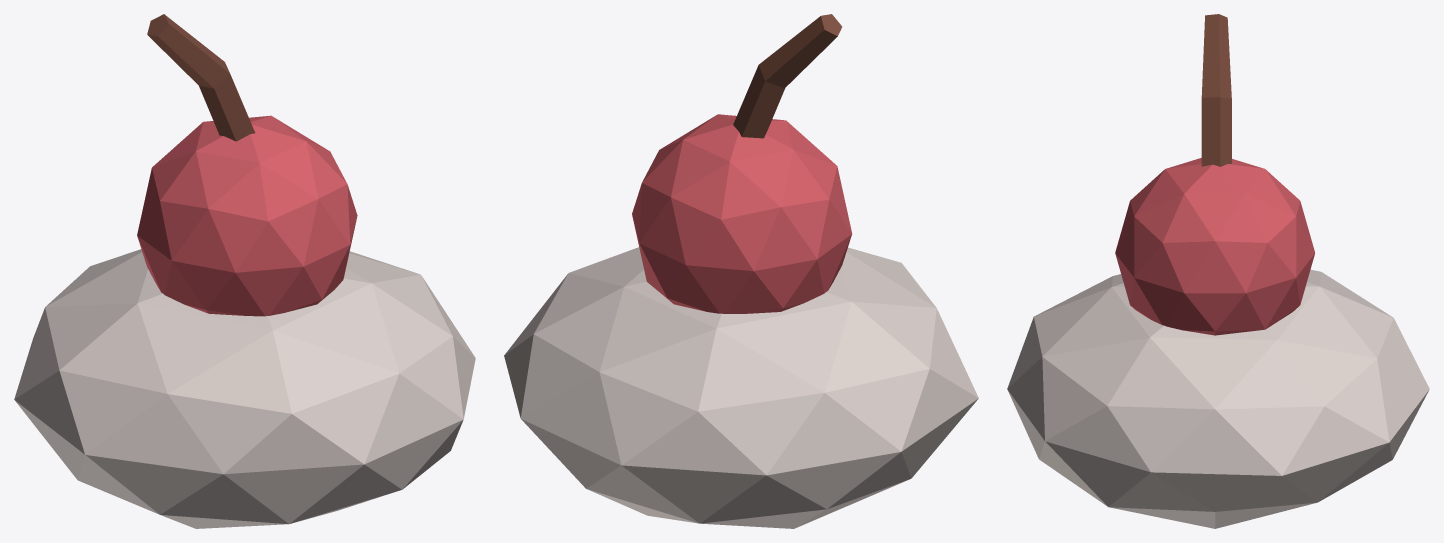
The model's file is goo_jar_hat@candy.fbx.
3 views of the same model, side by side, from view 1: azimuth 30°, elevation 25°; view 2: azimuth 150°, elevation 25°; view 3: azimuth 270°, elevation 25° (orthographic). The views are drawn at different scales.
Parts seen in each view (by area): view 1: goo_jar_hat; view 2: goo_jar_hat; view 3: goo_jar_hat.
Part boxes in pixels (x1=…): goo_jar_hat: x1=14, y1=14, x2=475, y2=528; goo_jar_hat: x1=504, y1=14, x2=978, y2=528; goo_jar_hat: x1=1007, y1=14, x2=1429, y2=528.
Size of the model in its own units: 0.984 by 1.18 by 1.01.
